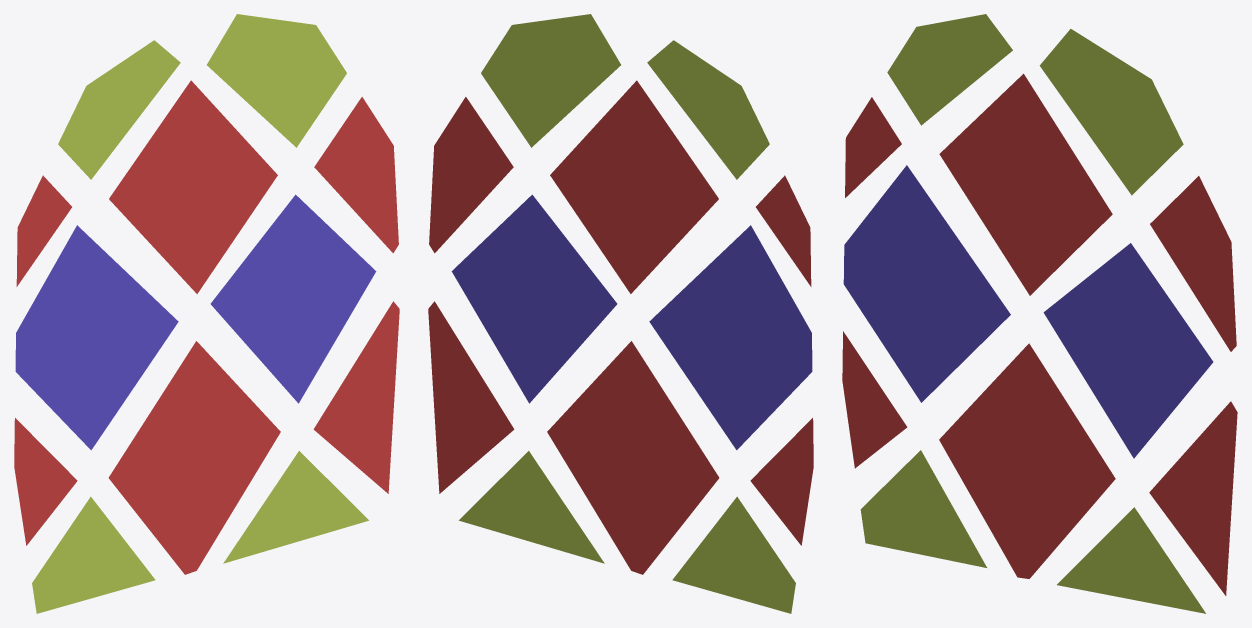
The model's file is cristalera.fbx.
3 views of the same model, side by side, from view 1: azimuth 30°, elevation 25°; view 2: azimuth 150°, elevation 25°; view 3: azimuth 330°, elevation 25° (orthographic). The views are drawn at different scales.
Parts seen in each view (by area): view 1: Plane; view 2: Plane; view 3: Plane.
Part boxes in pixels (<box>): Plane: <box>14,14,399,613</box>; Plane: <box>428,14,813,613</box>; Plane: <box>842,14,1237,613</box>.
Size of the model in its own units: 260 by 355 by 1.01e-05.
